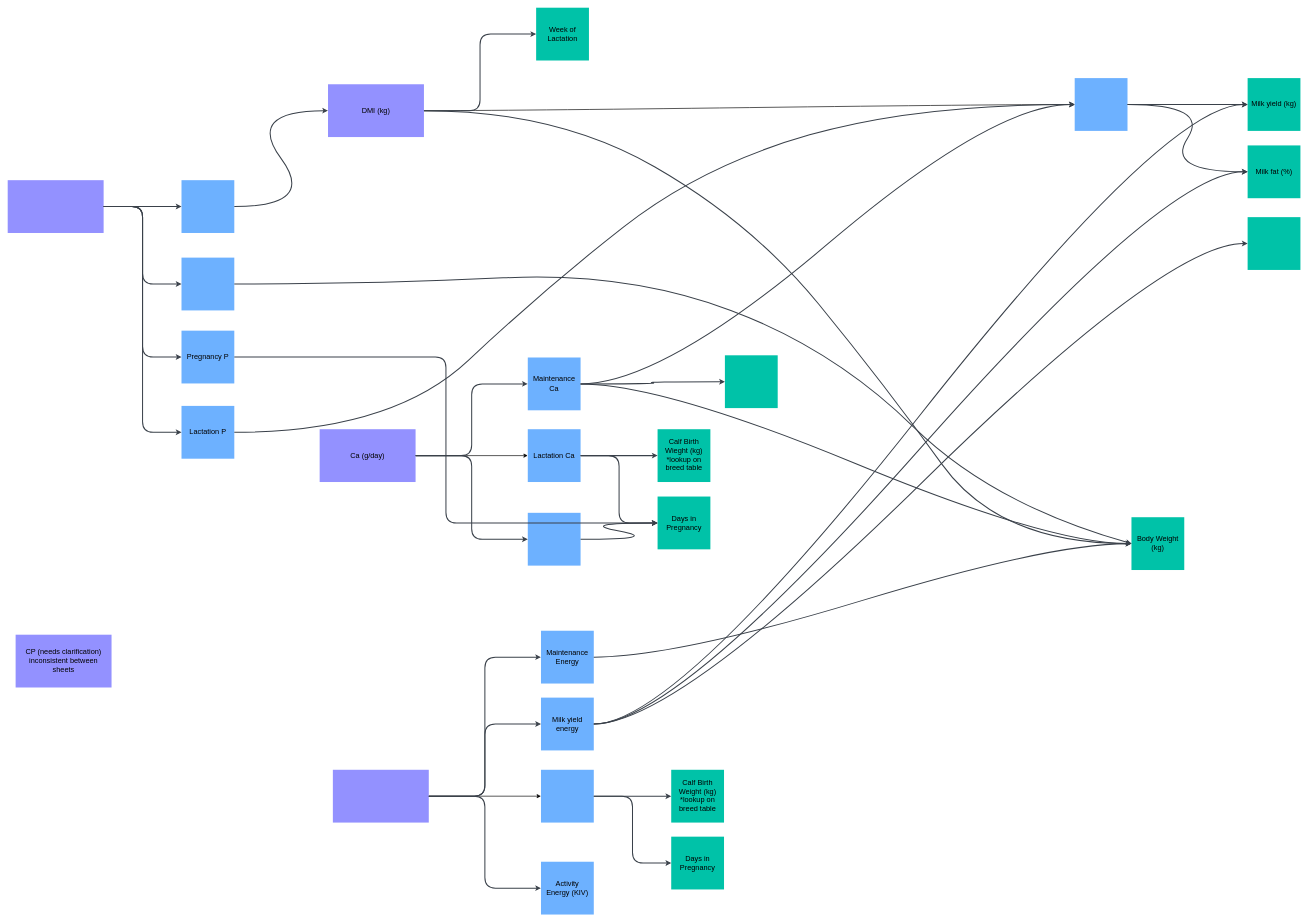
Some shapes in this 1308 by 922 pixel diagram are drawn without their labels. Each missing label, with the box of its shape:
Anggaran Pengeluaran susu: (1074, 78, 1127, 131)
Endogenous P: (181, 257, 234, 310)
Maintenance P: (181, 180, 234, 233)
ME (MJ/day): (333, 770, 429, 822)
Milk protein (%): (1247, 217, 1300, 270)
Milking status (yes/no): (725, 355, 777, 408)
P (g/day): (7, 180, 103, 233)
Pregnancy Ca: (528, 513, 580, 565)
Pregnancy Energy: (541, 770, 594, 822)
